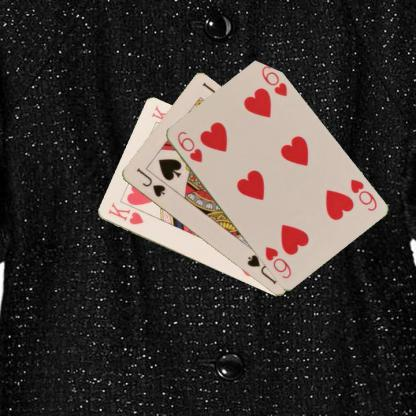6h: (347, 176, 378, 213), (174, 128, 203, 164)
Js: (134, 164, 166, 198)
Kh: (105, 199, 145, 226)
